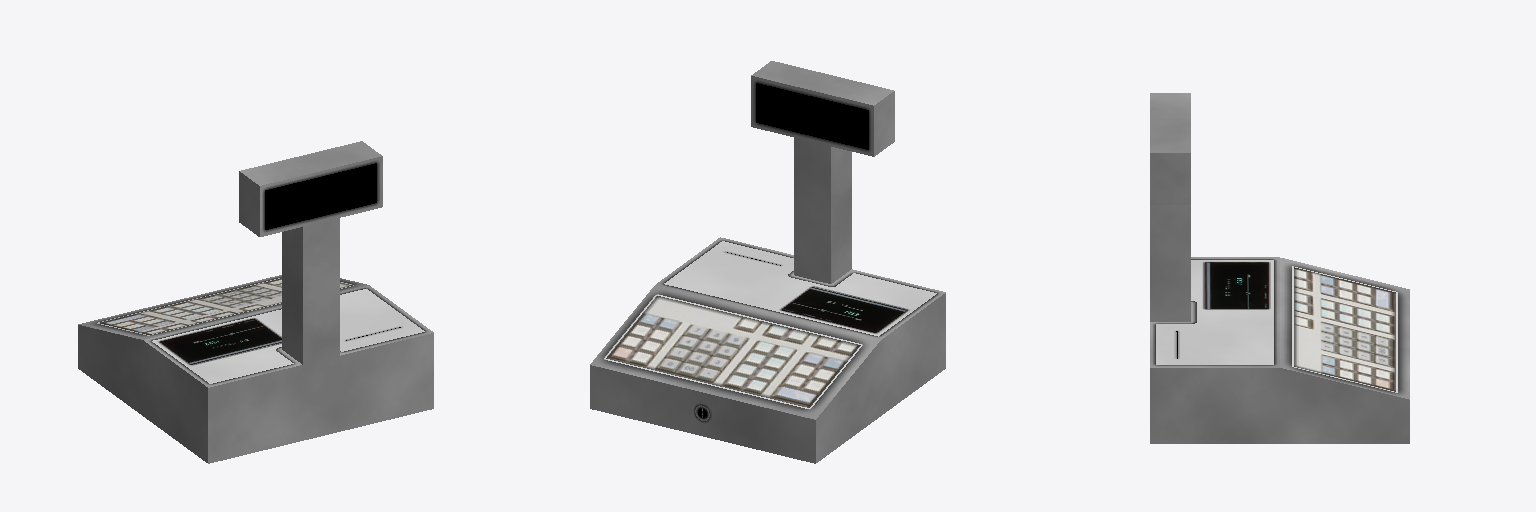
3 renders of one model, left to right at view 1: azimuth 30°, elevation 25°; view 2: azimuth 150°, elevation 25°; view 3: azimuth 270°, elevation 25°, orthographic.
Parts seen in each view (by area): view 1: Cube15; view 2: Cube15; view 3: Cube15.
Boxes of the visible parts, box(x1,y1,x2,y2) form: Cube15: box(78, 141, 433, 463); Cube15: box(590, 61, 945, 463); Cube15: box(1150, 93, 1409, 443).
Bounding box in the file's own units: 25.5 × 28.61 × 25.5.
Materials: 1 (1 with a texture image).